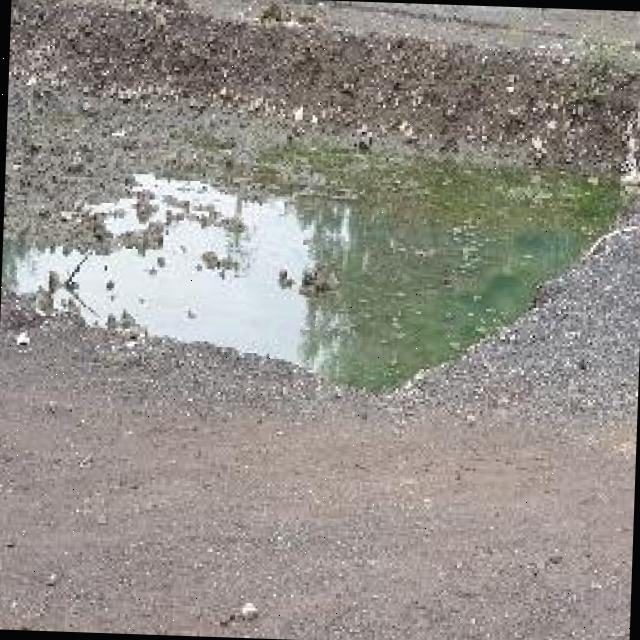stagnation: (56, 65, 604, 388)
